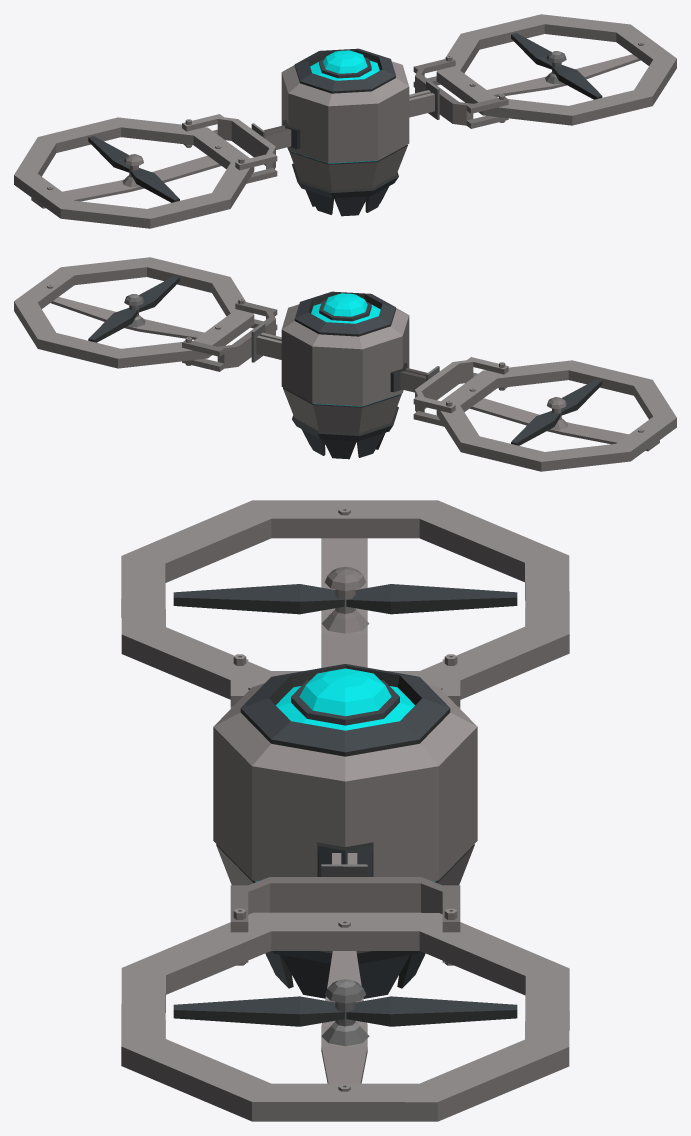
Rendered from Drone.glb.
The picture shows the model from 3 angles, top to bottom: view 1: azimuth 30°, elevation 25°; view 2: azimuth 150°, elevation 25°; view 3: azimuth 270°, elevation 25°; orthographic projection. The views are drawn at different scales.
Parts seen in each view (by area): view 1: Drone3.001; view 2: Drone3.001; view 3: Drone3.001.
Part boxes in pixels (left/top/right/bottom): Drone3.001: left=14, top=14, right=676, bottom=228; Drone3.001: left=14, top=257, right=676, bottom=471; Drone3.001: left=121, top=500, right=569, bottom=1121.
Size of the model in its own units: 7.95 by 1.82 by 2.5.
Materials: 1 (1 with a texture image).
